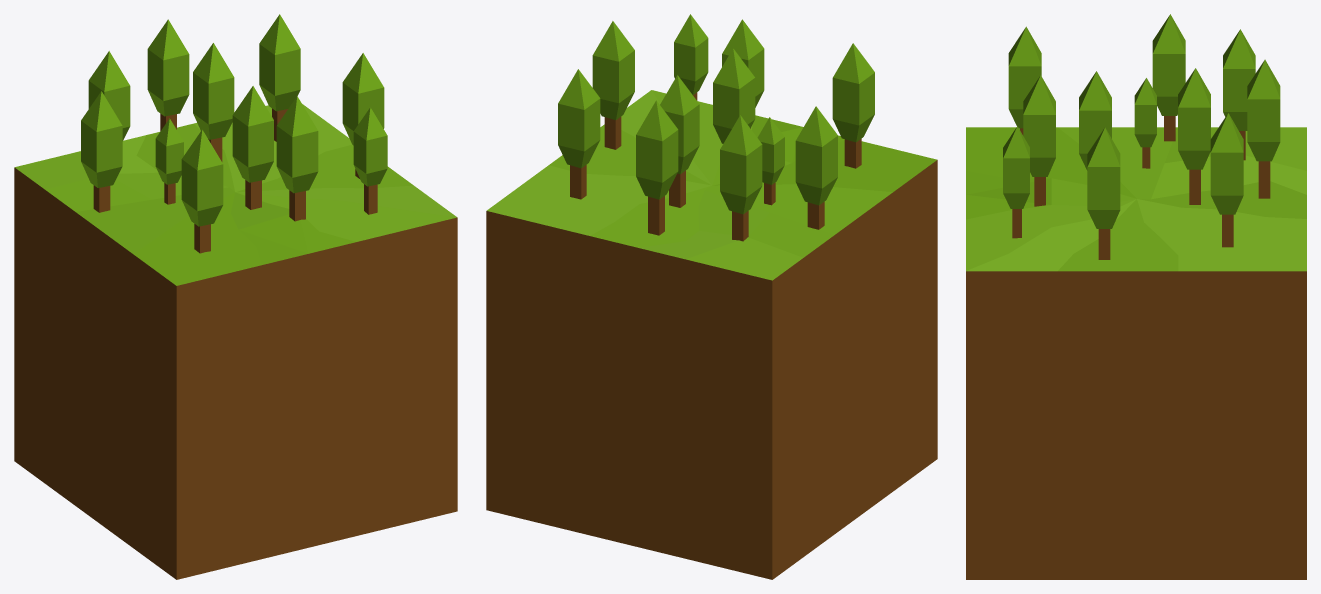
File: FOREST.glb
3 views of the same model, side by side, from view 1: azimuth 30°, elevation 25°; view 2: azimuth 150°, elevation 25°; view 3: azimuth 270°, elevation 25° (orthographic). The views are drawn at different scales.
Visible parts, largest first — view 1: Forest; view 2: Forest; view 3: Forest.
Part boxes in pixels (x1,y1,x2,y2): Forest: [14, 14, 457, 579]; Forest: [486, 14, 937, 579]; Forest: [966, 14, 1306, 579].
Bounding box in the file's own units: 4 × 5.77 × 4.
Materials: 1 (1 with a texture image).
